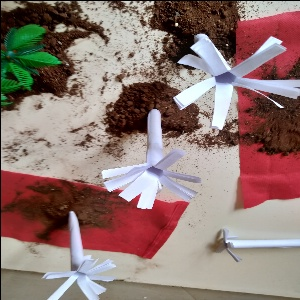plant: (1, 29, 45, 104)
weed: (169, 21, 299, 134), (98, 107, 194, 208), (38, 213, 120, 300), (213, 222, 300, 271)
